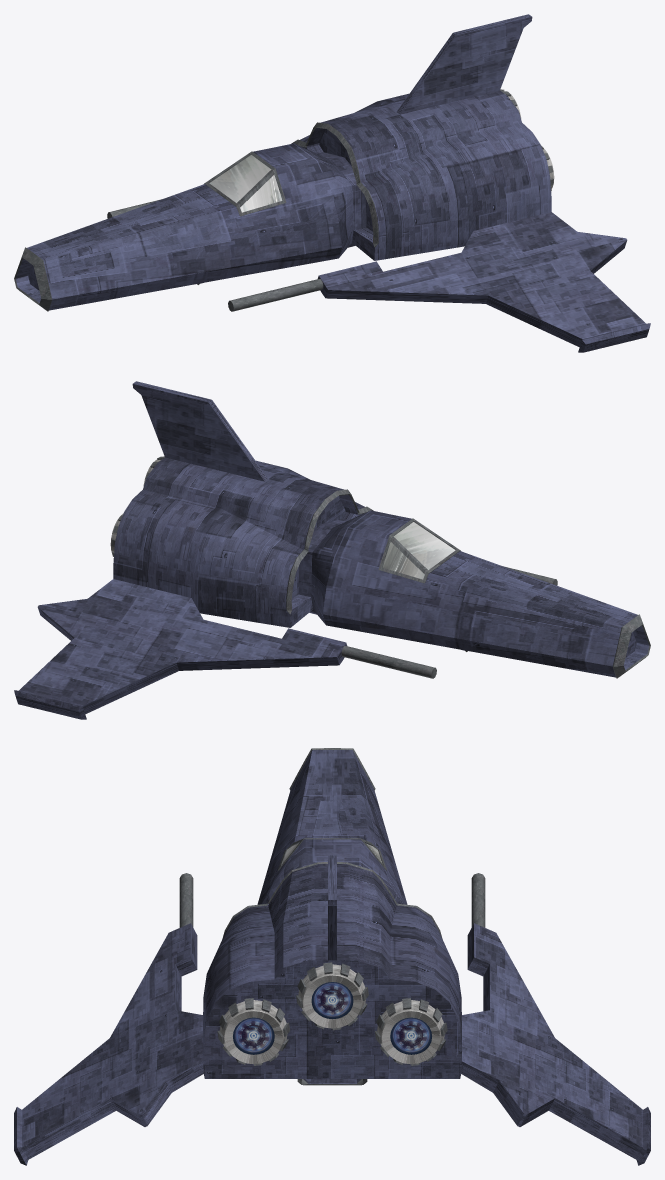
File: vaisseau.obj
3 views of the same model, one above another, from view 1: azimuth 30°, elevation 25°; view 2: azimuth 150°, elevation 25°; view 3: azimuth 270°, elevation 25° (orthographic). The views are drawn at different scales.
Parts seen in each view (by area): view 1: Object024, Object026, Object018, Object022, Object008, Cylinder001, Object006, Object014, Object010; view 2: Object024, Object026, Object020, Object022, Object008, Cylinder002, Object006, Object014, Object010; view 3: Object026, Object018, Object020, Object024, Cone002, Cone003, Cone001, Circle001, Circle003, Circle002, Object022, Object (+5 smaller).
Boxes of the visible parts, left/top/right/bottom form: Object024: left=15, top=143, right=355, bottom=310; Object026: left=300, top=90, right=551, bottom=260; Object018: left=317, top=212, right=650, bottom=352; Object022: left=396, top=14, right=532, bottom=114; Object008: left=209, top=155, right=282, bottom=212; Cylinder001: left=228, top=279, right=323, bottom=311; Object006: left=204, top=151, right=286, bottom=216; Object014: left=291, top=122, right=378, bottom=247; Object010: left=14, top=247, right=51, bottom=311; Object024: left=309, top=510, right=649, bottom=677; Object026: left=113, top=457, right=364, bottom=627; Object020: left=14, top=579, right=347, bottom=719; Object022: left=132, top=381, right=268, bottom=481; Object008: left=382, top=522, right=455, bottom=579; Cylinder002: left=341, top=646, right=436, bottom=678; Object006: left=378, top=518, right=460, bottom=583; Object014: left=286, top=489, right=373, bottom=614; Object010: left=613, top=614, right=650, bottom=678; Object026: left=203, top=864, right=461, bottom=1083; Object018: left=14, top=923, right=203, bottom=1165; Object020: left=461, top=923, right=650, bottom=1165; Object024: left=257, top=750, right=407, bottom=1083; Cone002: left=298, top=964, right=365, bottom=1028; Cone003: left=219, top=1000, right=287, bottom=1064; Cone001: left=377, top=1000, right=444, bottom=1064; Circle001: left=233, top=1017, right=274, bottom=1054; Circle003: left=390, top=1017, right=431, bottom=1054; Circle002: left=311, top=982, right=353, bottom=1019; Object022: left=328, top=855, right=336, bottom=960; Object: left=296, top=962, right=368, bottom=1030.
Size of the model in its own units: 82.87 by 34.3 by 72.84.
